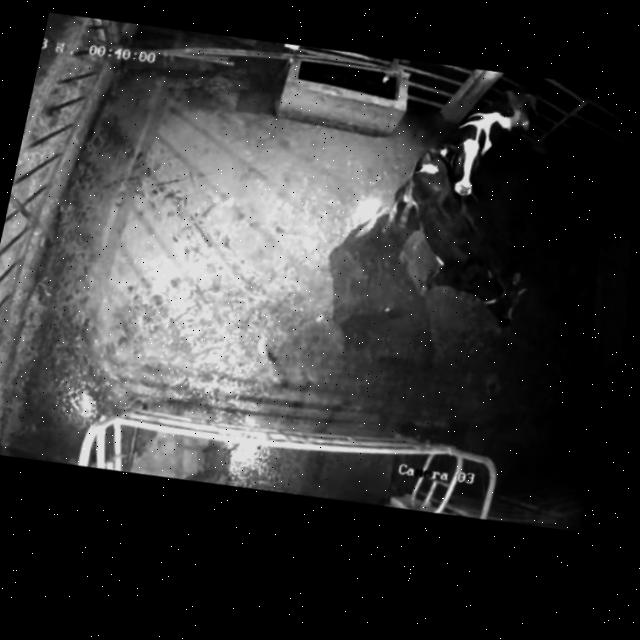propping: (387, 114, 505, 232)
stand: (365, 142, 563, 356)
